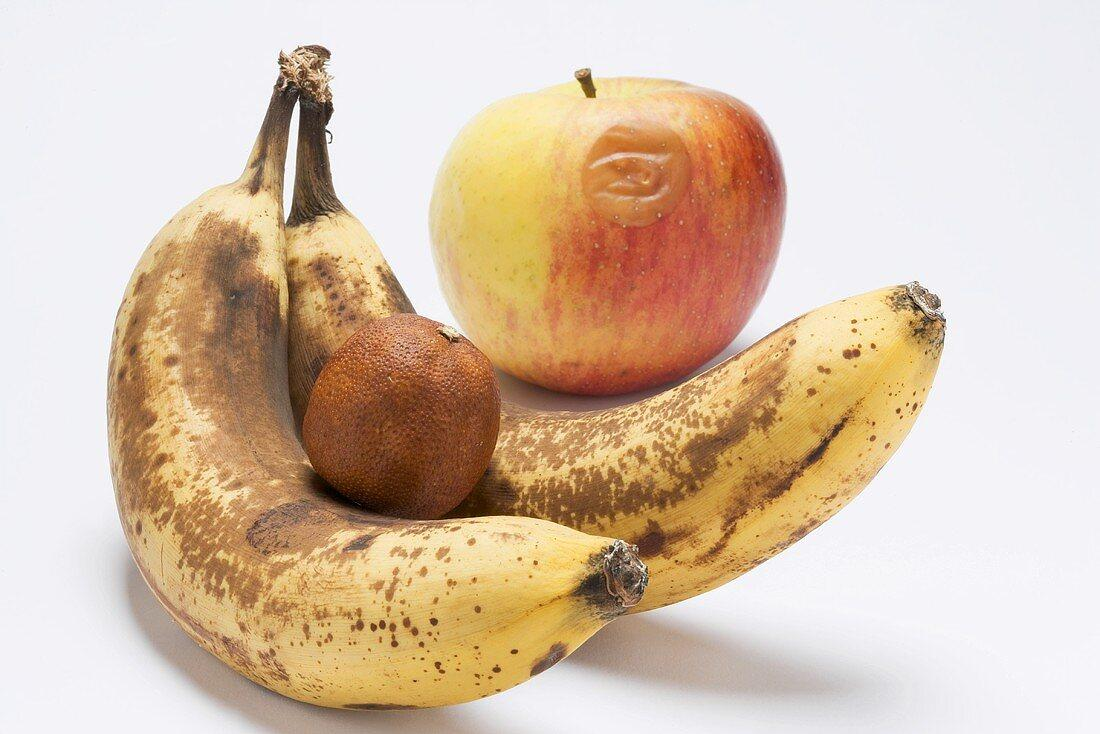Apple Rotten: (417, 44, 796, 387)
Banana Rotten: (89, 157, 630, 727), (472, 285, 943, 613), (276, 133, 460, 456)
Orange Rotten: (290, 295, 529, 510)
